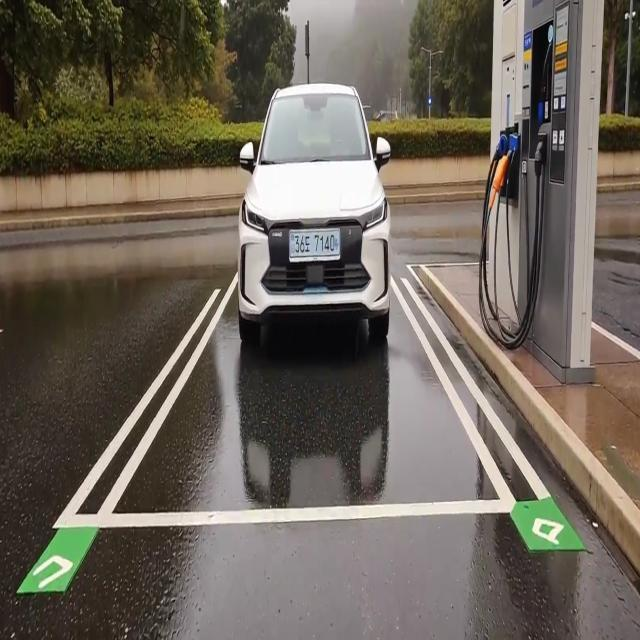car: (288, 229, 340, 262)
carev: (288, 230, 295, 260), (334, 229, 340, 258)
